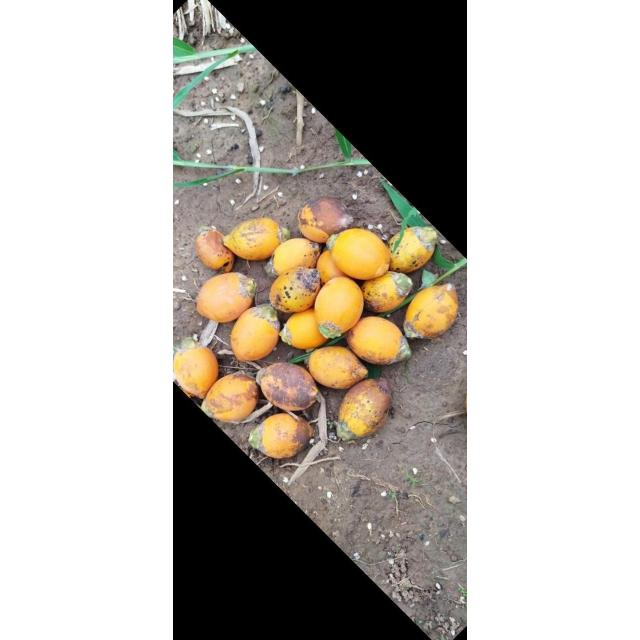good: (329, 221, 396, 279), (336, 378, 394, 438), (346, 317, 410, 365), (314, 277, 364, 337), (258, 362, 318, 412), (197, 272, 256, 322), (404, 284, 458, 338), (248, 414, 314, 458), (230, 304, 280, 361), (202, 373, 258, 422), (268, 266, 322, 314), (297, 197, 353, 243), (224, 218, 282, 262), (308, 346, 368, 388), (174, 343, 218, 399), (387, 227, 437, 273), (360, 272, 412, 314), (282, 309, 330, 351), (270, 238, 322, 276), (196, 226, 234, 272), (316, 248, 348, 286)
